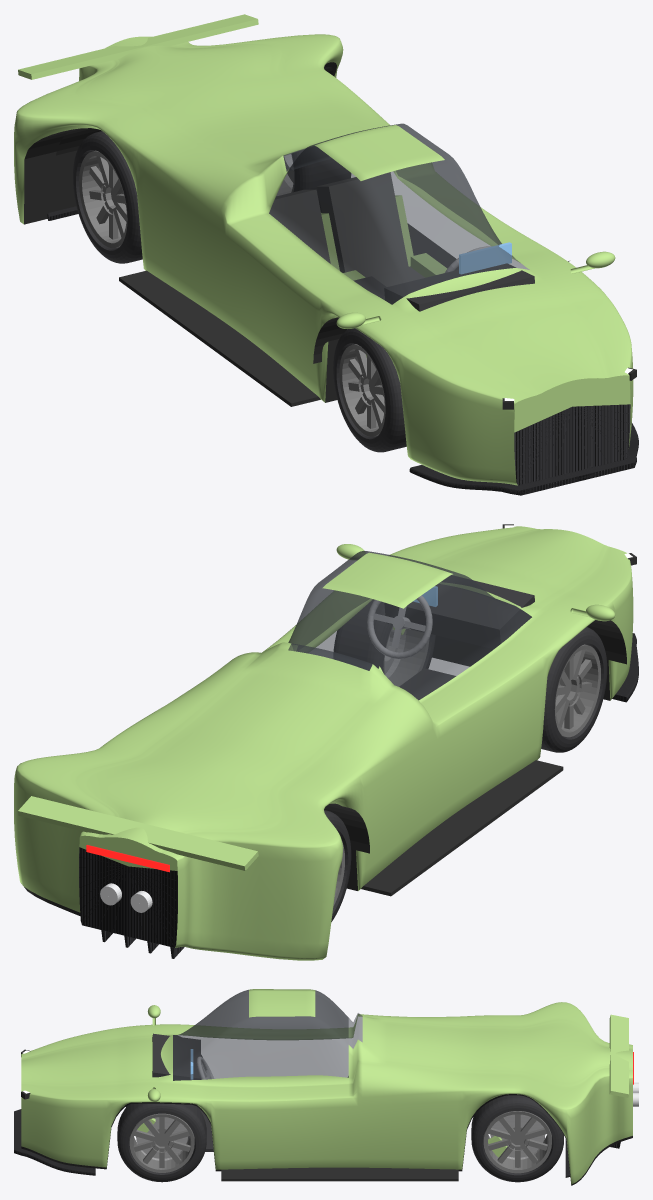
The model's file is mclaren-artura.glb.
3 views of the same model, one above another, from view 1: azimuth 30°, elevation 25°; view 2: azimuth 150°, elevation 25°; view 3: azimuth 270°, elevation 25° (orthographic). The views are drawn at different scales.
Parts seen in each view (by area): view 1: Body_PrimaryPaint, Glass_Windows, Carbon_Exterior, Interior_Seats, WheelWells, Underbody, Tire_FR, Rim_RR, Tire_RR, Rim_FR, Body_Spoiler, Interior_Dashboard (+3 smaller); view 2: Body_PrimaryPaint, Glass_Windows, WheelWells, Carbon_Exterior, Interior_Dashboard, Body_Spoiler, Rim_FR, Tire_FR, Tire_FL, Underbody, Interior_SteeringWheel, Rim_FL (+4 smaller); view 3: Body_PrimaryPaint, Glass_Windows, WheelWells, Tire_FL, Tire_RL, Rim_RL, Rim_FL, Interior_Dashboard, Body_Spoiler, Carbon_Exterior, Underbody, BrakeDisc_RL (+1 smaller).
Part boxes in pixels (left/top/right/bottom): Body_PrimaryPaint: left=14, top=34, right=633, bottom=485; Glass_Windows: left=269, top=123, right=529, bottom=304; Carbon_Exterior: left=47, top=206, right=638, bottom=495; Interior_Seats: left=269, top=172, right=424, bottom=286; WheelWells: left=56, top=128, right=569, bottom=406; Underbody: left=24, top=62, right=339, bottom=402; Tire_FR: left=333, top=328, right=406, bottom=452; Rim_RR: left=79, top=150, right=127, bottom=248; Tire_RR: left=73, top=131, right=142, bottom=263; Rim_FR: left=339, top=344, right=385, bottom=436; Body_Spoiler: left=18, top=14, right=258, bottom=79; Interior_Dashboard: left=384, top=263, right=534, bottom=311; Body_PrimaryPaint: left=14, top=526, right=633, bottom=960; Glass_Windows: left=288, top=551, right=531, bottom=699; WheelWells: left=324, top=620, right=626, bottom=896; Carbon_Exterior: left=79, top=633, right=638, bottom=958; Interior_Dashboard: left=384, top=575, right=534, bottom=649; Body_Spoiler: left=18, top=796, right=258, bottom=870; Rim_FR: left=554, top=644, right=600, bottom=737; Tire_FR: left=541, top=627, right=607, bottom=752; Tire_FL: left=333, top=599, right=435, bottom=672; Underbody: left=24, top=635, right=610, bottom=947; Interior_SteeringWheel: left=367, top=595, right=432, bottom=658; Rim_FL: left=383, top=626, right=429, bottom=686; Body_PrimaryPaint: left=21, top=989, right=632, bottom=1184; Glass_Windows: left=173, top=989, right=362, bottom=1080; WheelWells: left=221, top=1167, right=458, bottom=1181; Tire_FL: left=117, top=1103, right=206, bottom=1182; Tire_RL: left=471, top=1095, right=563, bottom=1182; Rim_RL: left=483, top=1111, right=551, bottom=1173; Rim_FL: left=129, top=1113, right=194, bottom=1172; Interior_Dashboard: left=152, top=1033, right=200, bottom=1080; Body_Spoiler: left=609, top=1014, right=628, bottom=1097; Carbon_Exterior: left=14, top=1109, right=620, bottom=1177; Underbody: left=21, top=1094, right=632, bottom=1185; BrakeDisc_RL: left=490, top=1114, right=544, bottom=1159.
Bounding box in the file's own units: 1.92 × 1.19 × 4.64.
Materials: 16 (2 with a texture image).
